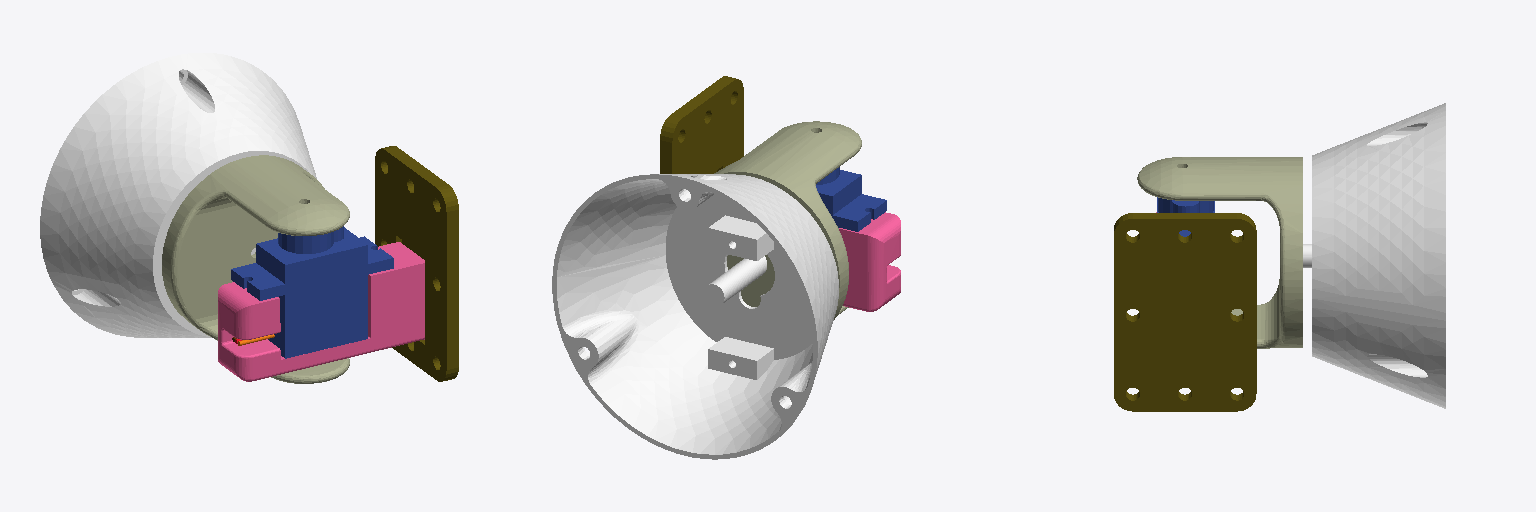
The model's file is tinker.obj.
The picture shows the model from 3 angles: view 1: azimuth 30°, elevation 25°; view 2: azimuth 150°, elevation 25°; view 3: azimuth 270°, elevation 25°; orthographic projection.
Visible parts, largest first — view 1: obj_0; view 2: obj_0; view 3: obj_0.
Boxes of the visible parts, x1,y1,x2,y2 form: obj_0: [40, 53, 458, 383]; obj_0: [552, 76, 900, 459]; obj_0: [1114, 103, 1445, 411].
Bounding box in the file's own units: 63.95 × 63.92 × 69.4.